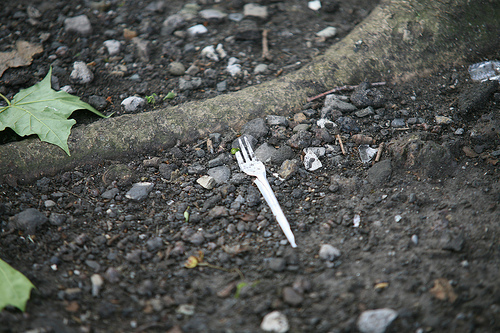litter: (232, 137, 296, 245)
